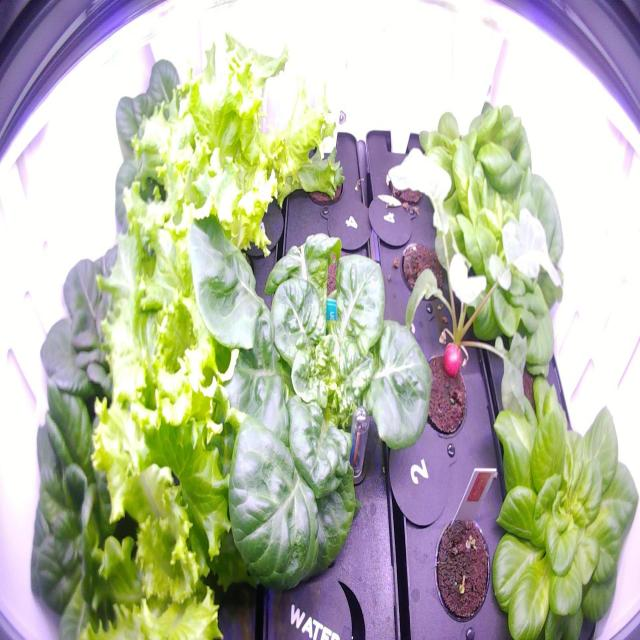Ready: (432, 159, 576, 391)
young: (180, 200, 440, 612), (478, 361, 640, 638), (15, 372, 182, 628), (30, 214, 180, 403), (97, 44, 232, 240), (412, 90, 545, 237)
